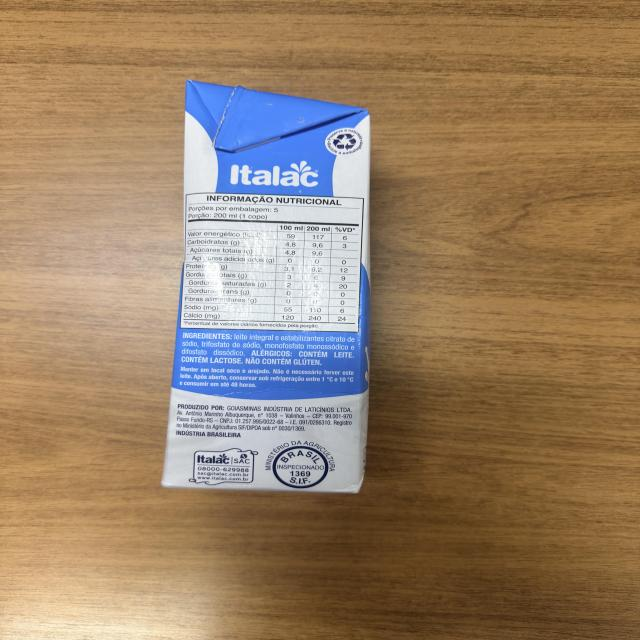Caixa de Leite: (162, 79, 372, 498)
